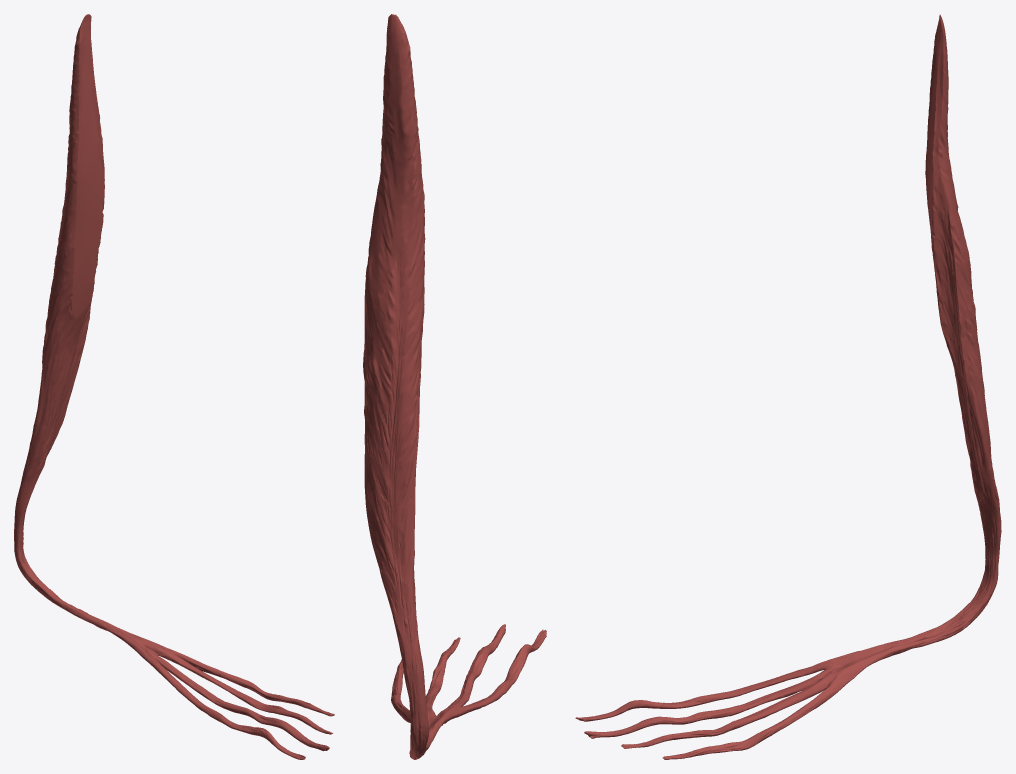
File: FMA65017.glb
3 views of the same model, side by side, from view 1: azimuth 30°, elevation 25°; view 2: azimuth 150°, elevation 25°; view 3: azimuth 270°, elevation 25° (orthographic). The views are drawn at different scales.
Parts seen in each view (by area): view 1: FMA65017; view 2: FMA65017; view 3: FMA65017.
Part boxes in pixels (left/top/right/bottom): FMA65017: left=14, top=14, right=334, bottom=759; FMA65017: left=363, top=14, right=546, bottom=759; FMA65017: left=575, top=14, right=1001, bottom=759.
Size of the model in its own units: 0.0915 by 0.3326 by 0.1869.
